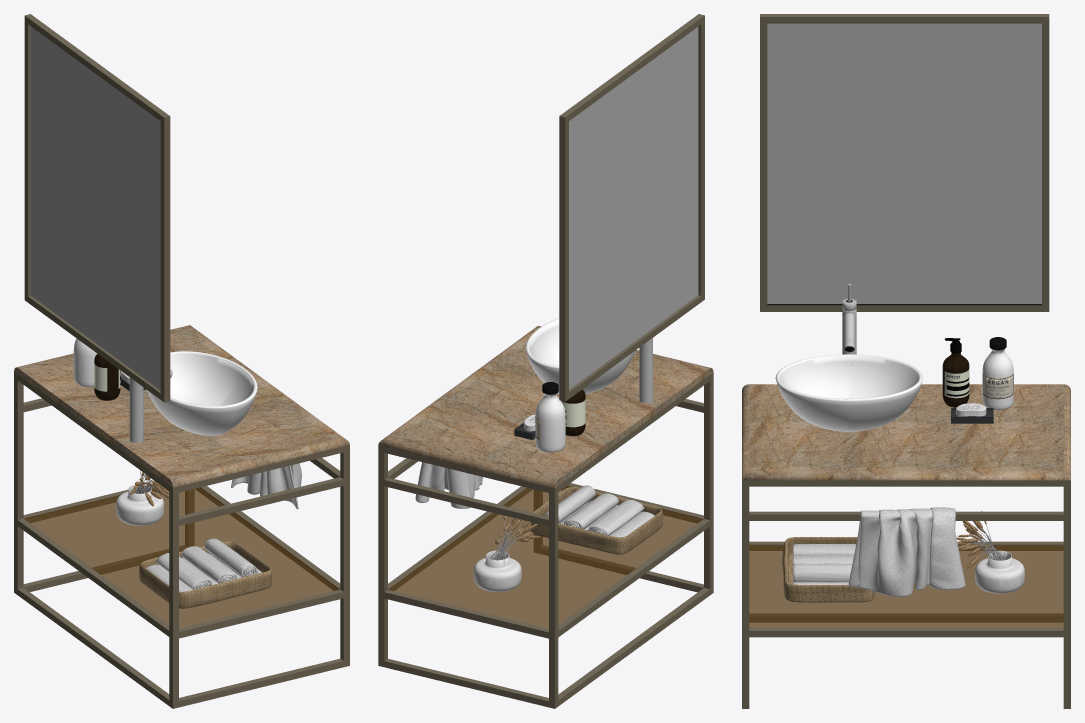
Rendered from aura-iconica-jaune.glb.
3 renders of one model, left to right at view 1: azimuth 30°, elevation 25°; view 2: azimuth 150°, elevation 25°; view 3: azimuth 270°, elevation 25°, orthographic. The views are drawn at different scales.
Parts seen in each view (by area): view 1: G-Object.016, G-Object.013, G-Object.015, _G-Object (Loose Mesh), G-Object.021, G-Object.003, C-Component#189, G-Object.007, C-model_urna.FBX, G-Object.001, G-Object.008, G-Object.011 (+9 smaller); view 2: G-Object.016, G-Object.013, G-Object.015, G-Object.003, _G-Object (Loose Mesh), C-Component#189, C-model_urna.FBX, G-Object.021, G-Object.007, G-Object.005, G-Object.012, G-Group2 (+9 smaller); view 3: G-Object.016, G-Object.013, G-Object.015, G-Object.021, G-Group2, _G-Object (Loose Mesh), G-Object.011, C-model_urna.FBX, C-Component#189, G-Object.006, G-Object.002, G-Object.003 (+9 smaller).
Boxes of the visible parts, x1=… form: G-Object.016: x1=24, y1=14, x2=170, y2=402; G-Object.013: x1=14, y1=325, x2=349, y2=487; G-Object.015: x1=24, y1=487, x2=339, y2=628; _G-Object (Loose Mesh): x1=17, y1=445, x2=349, y2=708; G-Object.021: x1=147, y1=351, x2=257, y2=435; G-Object.003: x1=14, y1=372, x2=194, y2=594; C-Component#189: x1=139, y1=541, x2=271, y2=608; G-Object.007: x1=17, y1=518, x2=169, y2=636; C-model_urna.FBX: x1=116, y1=470, x2=169, y2=525; G-Object.001: x1=179, y1=589, x2=343, y2=638; G-Object.008: x1=179, y1=477, x2=343, y2=525; G-Object.011: x1=195, y1=486, x2=340, y2=590; G-Object.016: x1=559, y1=14, x2=704, y2=401; G-Object.013: x1=378, y1=326, x2=713, y2=488; G-Object.015: x1=388, y1=485, x2=703, y2=628; G-Object.003: x1=378, y1=445, x2=558, y2=708; _G-Object (Loose Mesh): x1=534, y1=372, x2=713, y2=706; C-Component#189: x1=530, y1=487, x2=662, y2=554; C-model_urna.FBX: x1=473, y1=515, x2=539, y2=591; G-Object.021: x1=525, y1=318, x2=636, y2=394; G-Object.007: x1=558, y1=519, x2=709, y2=637; G-Object.005: x1=384, y1=590, x2=548, y2=638; G-Object.012: x1=384, y1=477, x2=548, y2=526; G-Group2: x1=415, y1=462, x2=482, y2=508; G-Object.016: x1=760, y1=14, x2=1049, y2=311; G-Object.013: x1=742, y1=384, x2=1070, y2=480; G-Object.015: x1=749, y1=544, x2=1063, y2=627; G-Object.021: x1=775, y1=354, x2=922, y2=431; G-Group2: x1=848, y1=507, x2=965, y2=596; _G-Object (Loose Mesh): x1=742, y1=486, x2=1063, y2=708; G-Object.011: x1=749, y1=628, x2=1063, y2=637; C-model_urna.FBX: x1=956, y1=511, x2=1024, y2=593; C-Component#189: x1=782, y1=537, x2=874, y2=602; G-Object.006: x1=742, y1=480, x2=1070, y2=486; G-Object.002: x1=749, y1=511, x2=1063, y2=520; G-Object.003: x1=1063, y1=486, x2=1070, y2=708.
Size of the model in its own units: 0.6638 by 1.85 by 0.91.
26 materials, 11 textured.
